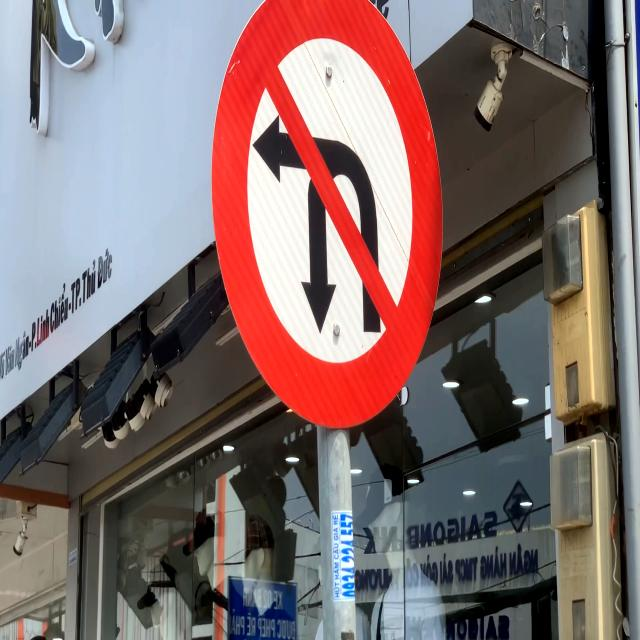P.124c: (208, 0, 447, 435)
